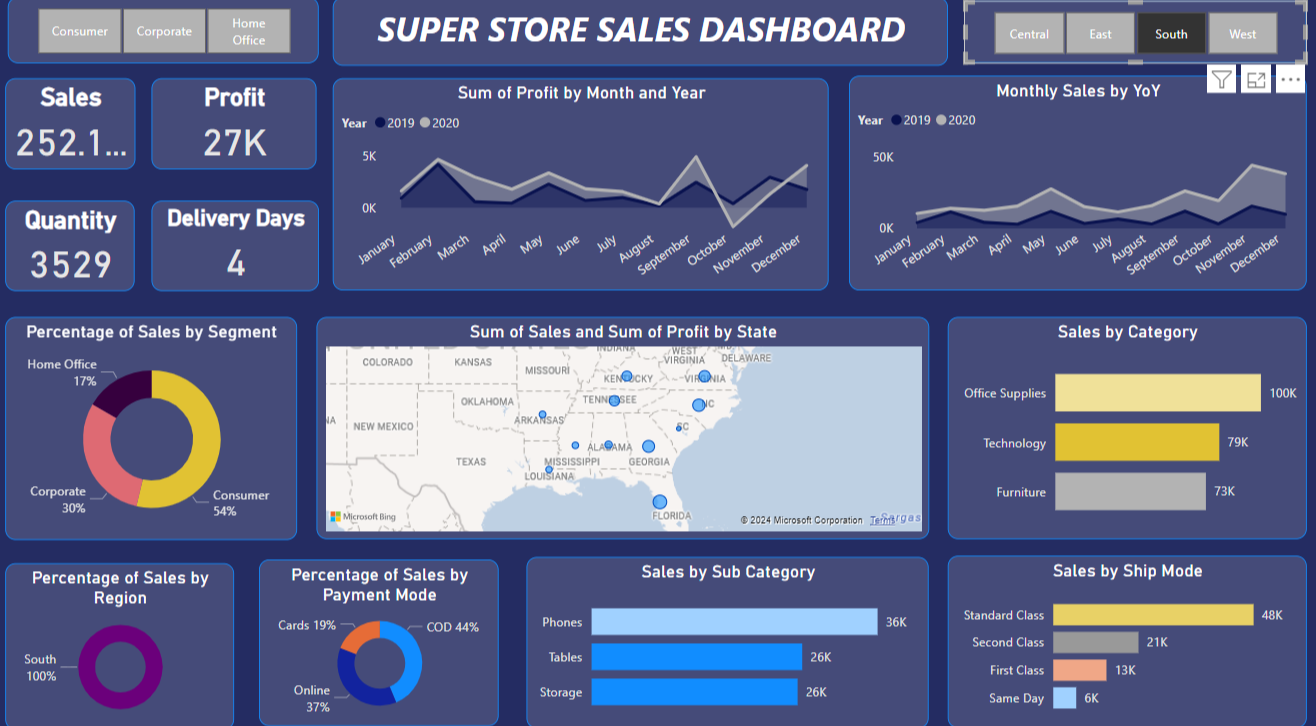

This screenshot's page, from the dashboard's own definition file:
{"tool":"powerbi","page":{"name":"Page 1","canvas":[1280,720],"ordinal":0},"visuals":[{"type":"clusteredBarChart","title":"Sales by Category","fields":{"Category":["SuperStore_Sales_Dataset.Category"],"Y":["Sum(SuperStore_Sales_Dataset.Sales)"]},"box":[920.2,311.2,346.1,214.7],"z":0},{"type":"clusteredBarChart","title":"Sales by Sub Category","fields":{"Category":["SuperStore_Sales_Dataset.Sub-Category"],"Y":["Sum(SuperStore_Sales_Dataset.Sales)"]},"box":[513.8,542.7,388.3,165.2],"z":1000},{"type":"clusteredBarChart","title":"Sales by Ship Mode","fields":{"Category":["SuperStore_Sales_Dataset.Ship Mode"],"Y":["Sum(SuperStore_Sales_Dataset.Sales)"]},"box":[920,541.2,346.2,166.2],"z":2000},{"type":"stackedAreaChart","title":"Monthly Sales by YoY","fields":{"Y":["Sum(SuperStore_Sales_Dataset.Sales)"],"Category":["SuperStore_Sales_Dataset.Order Date.Variation.Date Hierarchy.Month","SuperStore_Sales_Dataset.Order Date.Variation.Date Hierarchy.Day"],"Series":["SuperStore_Sales_Dataset.Order Date.Variation.Date Hierarchy.Year"]},"box":[825,78.8,441.2,207.5],"z":3000},{"type":"stackedAreaChart","fields":{"Category":["SuperStore_Sales_Dataset.Order Date.Variation.Date Hierarchy.Month","SuperStore_Sales_Dataset.Order Date.Variation.Date Hierarchy.Day"],"Series":["SuperStore_Sales_Dataset.Order Date.Variation.Date Hierarchy.Year"],"Y":["Sum(SuperStore_Sales_Dataset.Profit)"]},"box":[326.2,81.2,478.8,205],"z":4000},{"type":"map","fields":{"Category":["SuperStore_Sales_Dataset.State"],"Size":["Sum(SuperStore_Sales_Dataset.Sales)"]},"box":[311.2,311.2,591,214.7],"z":5000},{"type":"donutChart","title":"Percentage of Sales by Segment","fields":{"Category":["SuperStore_Sales_Dataset.Segment"],"Y":["Sum(SuperStore_Sales_Dataset.Sales)"]},"box":[11.2,311.2,281.2,215],"z":6000},{"type":"donutChart","title":"Percentage of Sales by Payment Mode","fields":{"Category":["SuperStore_Sales_Dataset.Payment Mode"],"Y":["Sum(SuperStore_Sales_Dataset.Sales)"]},"box":[255.7,545.1,231.6,160.4],"z":7000},{"type":"slicer","fields":{"Values":["SuperStore_Sales_Dataset.Region"]},"box":[936.2,6.2,330,60],"z":8000},{"type":"textbox","box":[326.2,2.5,593.8,66.2],"z":9000},{"type":"card","title":"Sales","fields":{"Values":["Sum(SuperStore_Sales_Dataset.Sales)"]},"box":[11.2,81.2,125,87.5],"z":10000},{"type":"card","title":"Quantity","fields":{"Values":["Sum(SuperStore_Sales_Dataset.Quantity)"]},"box":[11.2,198.8,125,87.5],"z":11000},{"type":"card","title":"Profit","fields":{"Values":["Sum(SuperStore_Sales_Dataset.Profit)"]},"box":[161.2,81.2,152.5,87.5],"z":12000},{"type":"card","title":"Delivery Days","fields":{"Values":["Avg(SuperStore_Sales_Dataset.AvgDelievery)"]},"box":[162.5,198.8,151.2,87.5],"z":13000},{"type":"donutChart","title":"Percentage of Sales by Region","fields":{"Category":["SuperStore_Sales_Dataset.Region"],"Y":["Sum(SuperStore_Sales_Dataset.Sales)"]},"box":[10.9,548.7,220.7,160.4],"z":14000},{"type":"slicer","fields":{"Values":["SuperStore_Sales_Dataset.Segment"]},"box":[11.2,2.5,300,63.8],"z":15000}]}

Visuals, with their boxes in screenshot pixels (x1, y1, x2, y2), scaled from the page's 1280x720 canvas onto the 1316x726 screenshot:
"Sales by Category" clusteredBarChart: 946, 314, 1302, 530
"Sales by Sub Category" clusteredBarChart: 528, 547, 927, 714
"Sales by Ship Mode" clusteredBarChart: 946, 546, 1302, 713
"Monthly Sales by YoY" stackedAreaChart: 848, 79, 1302, 289
stackedAreaChart - SuperStore_Sales_Dataset.Order Date.Variation.Date Hierarchy.Month x SuperStore_Sales_Dataset.Order Date.Variation.Date Hierarchy.Day: 335, 82, 828, 289
map - SuperStore_Sales_Dataset.State x Sum(SuperStore_Sales_Dataset.Sales): 320, 314, 928, 530
"Percentage of Sales by Segment" donutChart: 12, 314, 301, 531
"Percentage of Sales by Payment Mode" donutChart: 263, 550, 501, 711
slicer - SuperStore_Sales_Dataset.Region: 963, 6, 1302, 67
textbox: 335, 3, 946, 69
"Sales" card: 12, 82, 140, 170
"Quantity" card: 12, 200, 140, 289
"Profit" card: 166, 82, 323, 170
"Delivery Days" card: 167, 200, 323, 289
"Percentage of Sales by Region" donutChart: 11, 553, 238, 715
slicer - SuperStore_Sales_Dataset.Segment: 12, 3, 320, 67
